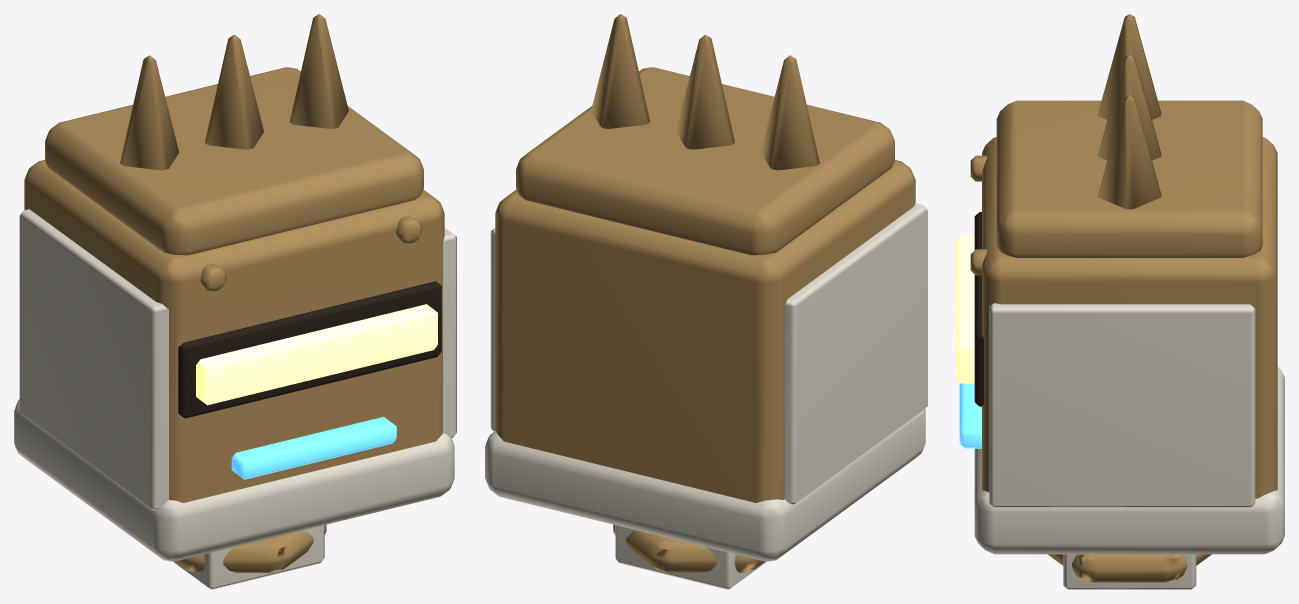
File: sovereign_brass_head_herald.glb
3 views of the same model, side by side, from view 1: azimuth 30°, elevation 25°; view 2: azimuth 150°, elevation 25°; view 3: azimuth 270°, elevation 25° (orthographic).
Visible parts, largest first — view 1: sovereign_brass_head_herald; view 2: sovereign_brass_head_herald; view 3: sovereign_brass_head_herald.
Boxes of the visible parts, bbox=[...] form: sovereign_brass_head_herald: bbox=[14, 14, 456, 589]; sovereign_brass_head_herald: bbox=[485, 14, 927, 589]; sovereign_brass_head_herald: bbox=[956, 14, 1284, 589].
Size of the model in its own units: 0.47 by 0.76 by 0.445.
1 material, 1 textured.
